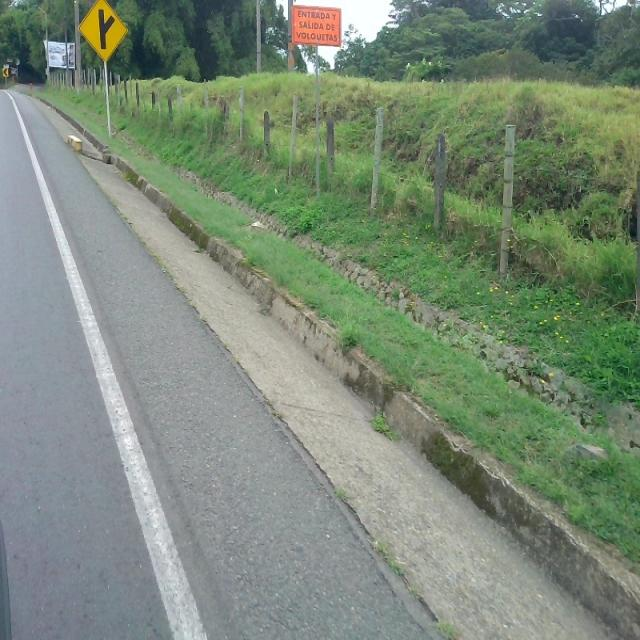DITCH: (19, 87, 638, 638)
